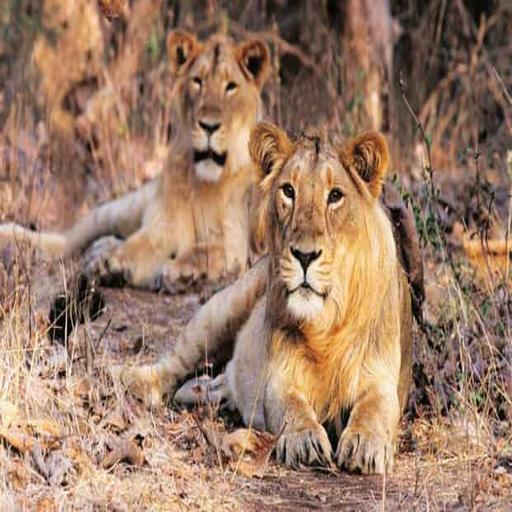Lion: (113, 118, 423, 486), (0, 26, 287, 308)
